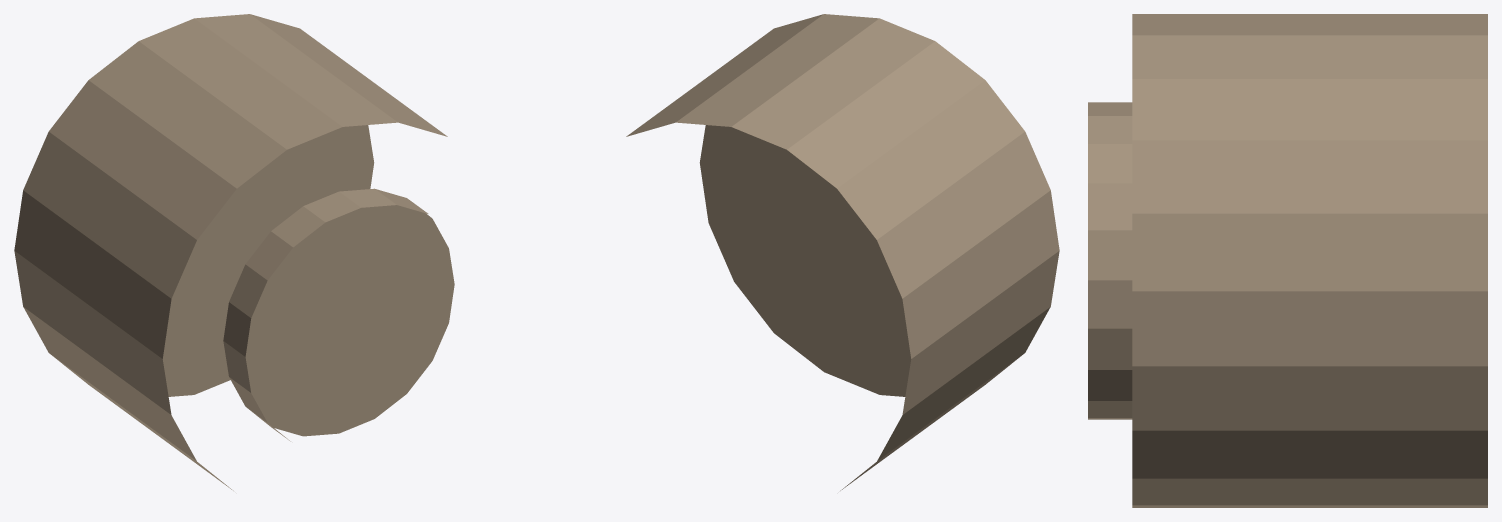
Rendered from town_fountain.glb.
3 renders of one model, left to right at view 1: azimuth 30°, elevation 25°; view 2: azimuth 150°, elevation 25°; view 3: azimuth 270°, elevation 25°, orthographic. The views are drawn at different scales.
Parts seen in each view (by area): view 1: world; view 2: world; view 3: world.
Part boxes in pixels (x1,y1,x2,y2): world: (14, 14, 454, 490); world: (626, 14, 1059, 490); world: (1088, 14, 1487, 507).
Size of the model in its own units: 2.8 by 2.8 by 2.25.
